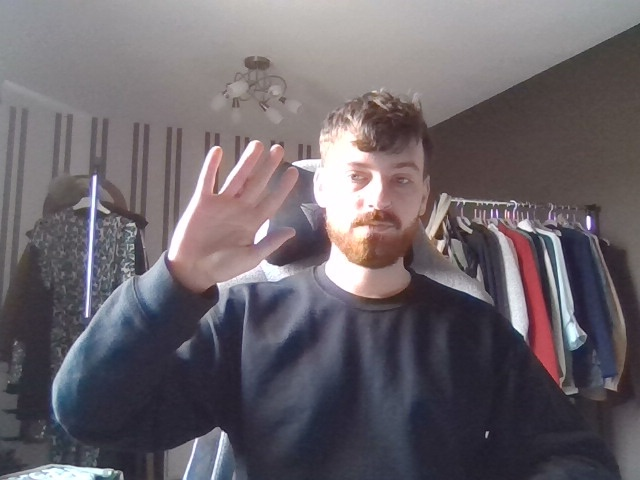Hello: (163, 127, 306, 305)
